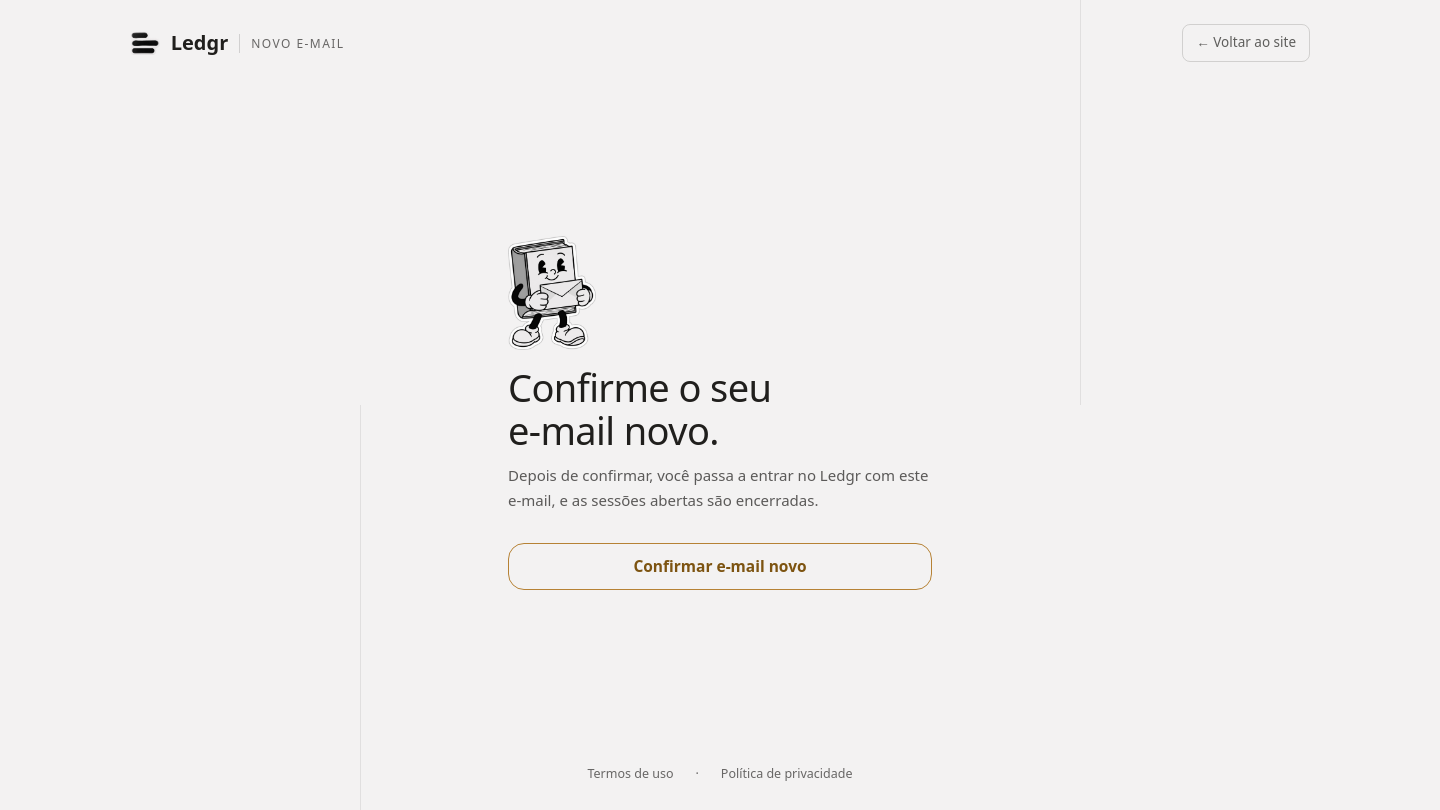
Scenario: ConfirmarEmailPage › explica a recusa link_invalido
The width and height of the screenshot is (1440, 810).
Click the button "Confirmar e-mail novo" at (720, 566), box [508, 543, 932, 590]
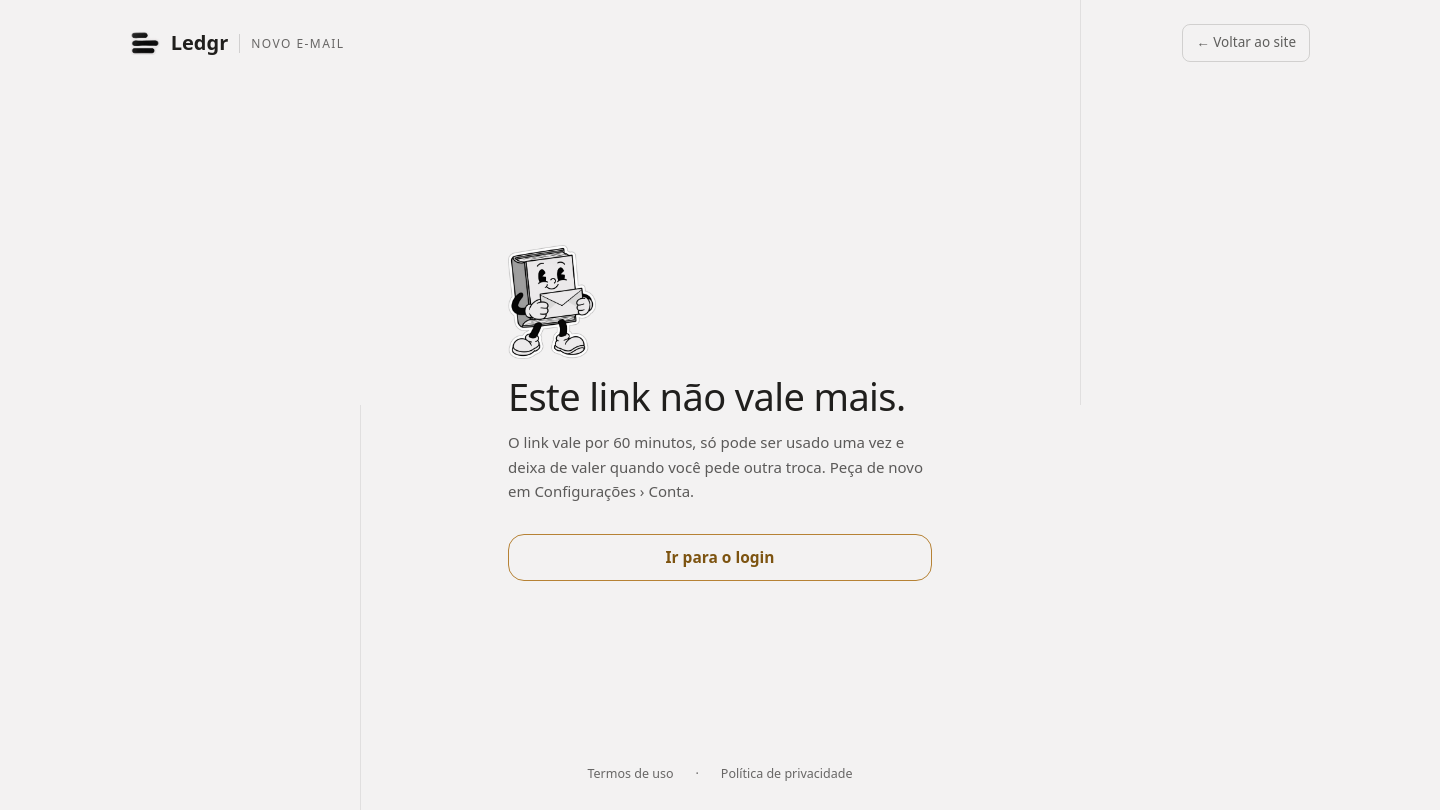
Now the heading "Este link não vale mais." is shown, box [508, 375, 932, 418]
